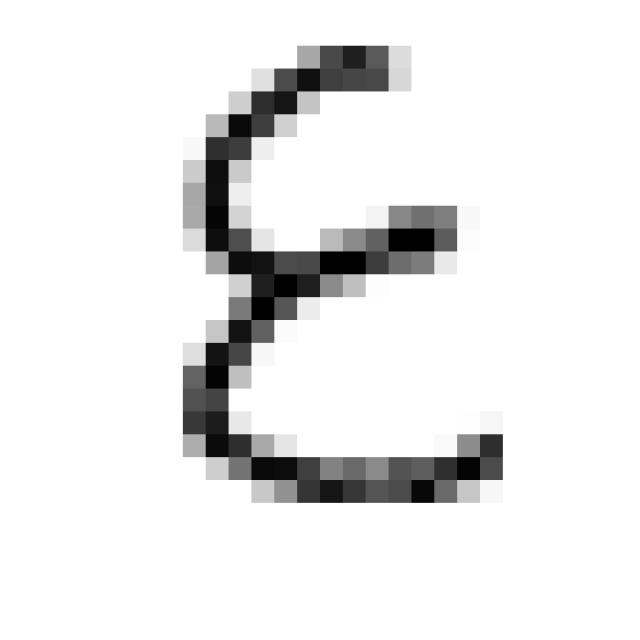4 -four-: (164, 20, 527, 528)
